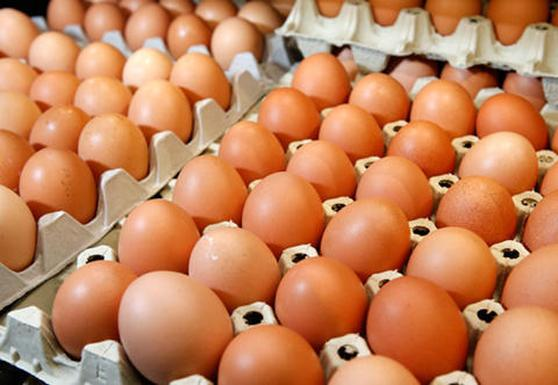egg: (115, 273, 235, 383), (368, 274, 474, 383), (177, 208, 289, 310), (236, 168, 330, 262), (309, 195, 417, 271), (14, 147, 112, 225), (412, 229, 500, 306), (80, 110, 154, 197), (215, 116, 298, 189), (169, 50, 245, 120), (126, 79, 203, 144)
